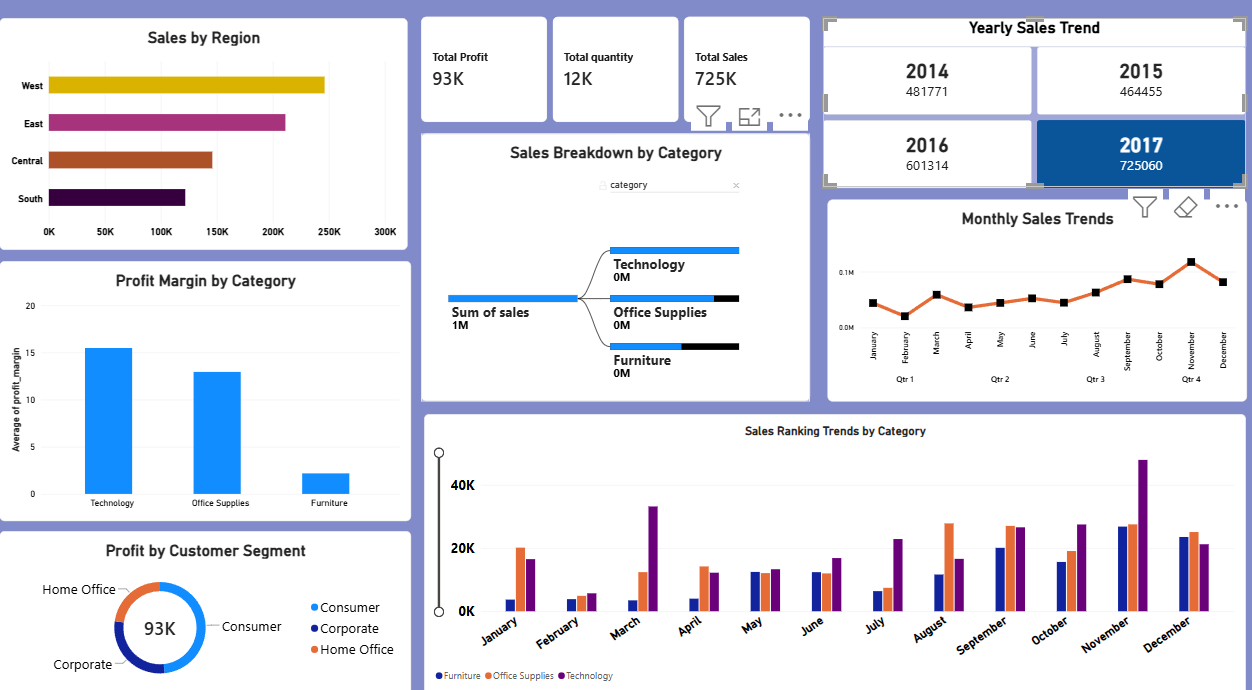

The page's visual inventory and layout, read from the dashboard file:
{"tool":"powerbi","page":{"name":"Superstore Sales Performance Dashboard","canvas":[1920,1080],"ordinal":0},"visuals":[{"type":"cardVisual","fields":{"Data":["Sum(orders.profit)","Sum(orders.quantity)","Sum(orders.sales)"]},"box":[603.8,31.2,663.3,150.2],"z":0},{"type":"clusteredColumnChart","title":"Sales by Category","fields":{"Y":["Sum(orders.sales)"],"Category":["products.category"]},"box":[615.3,580.6,641.3,482.4],"z":1000},{"type":"lineChart","title":"Sales Trend Over Time","fields":{"Category":["orders.order_date.Variation.Date Hierarchy.Month"],"Y":["Sum(orders.sales)"]},"box":[1268.1,756.8,635.5,306.2],"z":2000},{"type":"donutChart","title":"Profit by Customer Segment","fields":{"Category":["customers.segment"],"Y":["Sum(orders.profit)"]},"box":[1268.1,485.3,635.5,251.3],"z":3000},{"type":"clusteredBarChart","title":"Sales by Region","fields":{"Category":["locations.region"],"Y":["Sum(orders.sales)"]},"box":[0,31.2,589.6,351.5],"z":4000},{"type":"textbox","box":[629,794,536,184],"z":6000},{"type":"textbox","box":[1755,737,164,343],"z":7000},{"type":"gauge","title":"Total Sales","fields":{"Y":["Sum(orders.sales)"]},"box":[0,399.7,592.4,212.6],"z":8000},{"type":"ribbonChart","title":"Sales Ranking Trends by Category","fields":{"Y":["Sum(orders.sales)"],"Category":["orders.order_date.Variation.Date Hierarchy.Month"]},"box":[1267.1,31.2,640.6,428],"z":9000},{"type":"textbox","box":[0,0,589,274],"z":10000},{"type":"decompositionTreeVisual","title":"Sales Breakdown by Region","fields":{"Analyze":["Sum(orders.sales)"],"ExplainBy":["products.category","locations.region","customers.segment"]},"box":[0,640.6,589.6,422.4],"z":10001},{"type":"areaChart","title":"Monthly Sales Trend by Category","fields":{"Y":["Sum(orders.sales)"],"Category":["orders.order_date.Variation.Date Hierarchy.Quarter","orders.order_date.Variation.Date Hierarchy.Month"],"Series":["products.category"]},"box":[615.1,206.9,640.6,368.5],"z":10002}]}

Visuals, with their boxes in screenshot pixels (x1, y1, x2, y2), scaled from the page's 1920x1080 canvas onto the 1252x690 screenshot:
cardVisual - Sum(orders.profit) x Sum(orders.quantity): x1=394 y1=20 x2=826 y2=116
"Sales by Category" clusteredColumnChart: x1=401 y1=371 x2=819 y2=679
"Sales Trend Over Time" lineChart: x1=827 y1=484 x2=1241 y2=679
"Profit by Customer Segment" donutChart: x1=827 y1=310 x2=1241 y2=471
"Sales by Region" clusteredBarChart: x1=0 y1=20 x2=384 y2=245
textbox: x1=410 y1=507 x2=760 y2=625
textbox: x1=1144 y1=471 x2=1251 y2=689
"Total Sales" gauge: x1=0 y1=255 x2=386 y2=391
"Sales Ranking Trends by Category" ribbonChart: x1=826 y1=20 x2=1244 y2=293
textbox: x1=0 y1=0 x2=384 y2=175
"Sales Breakdown by Region" decompositionTreeVisual: x1=0 y1=409 x2=384 y2=679
"Monthly Sales Trend by Category" areaChart: x1=401 y1=132 x2=819 y2=368
